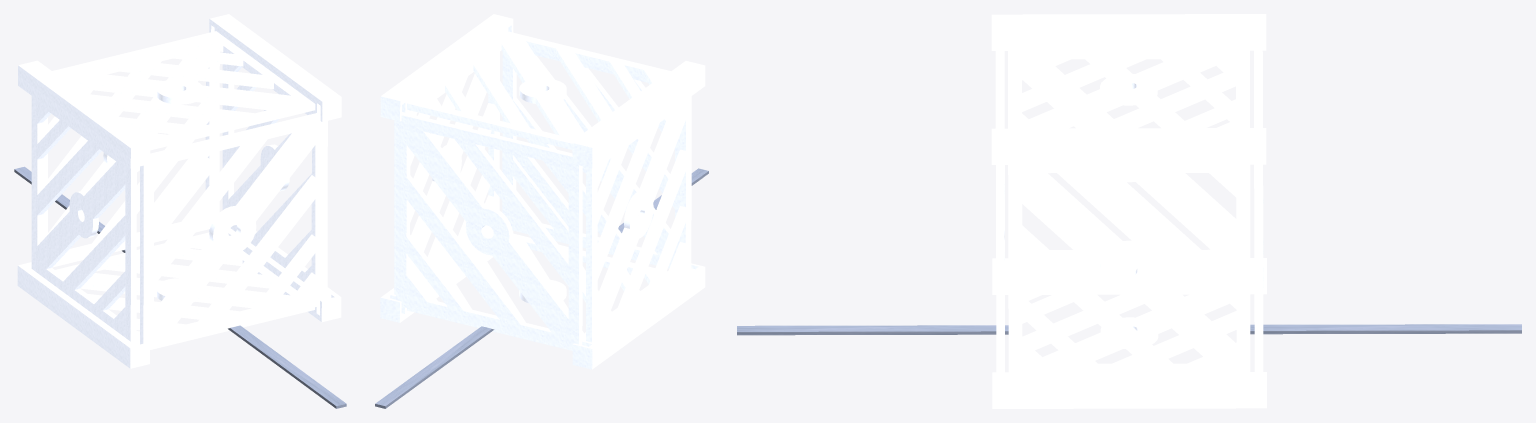
The model's file is cubesat3.glb.
The picture shows the model from 3 angles, left to right: view 1: azimuth 30°, elevation 25°; view 2: azimuth 150°, elevation 25°; view 3: azimuth 270°, elevation 25°; orthographic projection. The views are drawn at different scales.
Parts seen in each view (by area): view 1: cubesat, Cube, Cube.001; view 2: cubesat, Cube.001; view 3: cubesat, Cube, Cube.001.
Part boxes in pixels (x1,y1,x2,y2): cubesat: (17,14,341,368); Cube: (228,325,346,408); Cube.001: (14,166,125,252); cubesat: (380,14,705,369); Cube.001: (375,326,494,408); cubesat: (991,14,1266,408); Cube: (737,325,1008,335); Cube.001: (1250,324,1521,334).
Size of the model in its own units: 7.37 by 7.38 by 19.48.
Materials: 3 (3 with a texture image).
